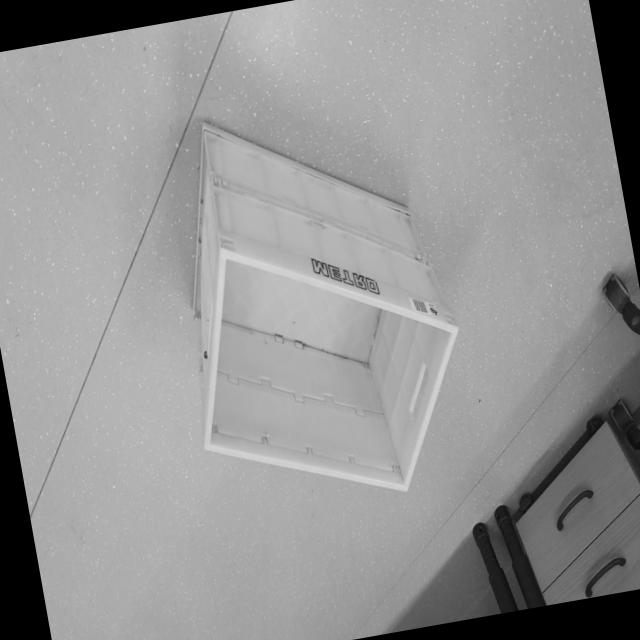box: (132, 79, 493, 540)
